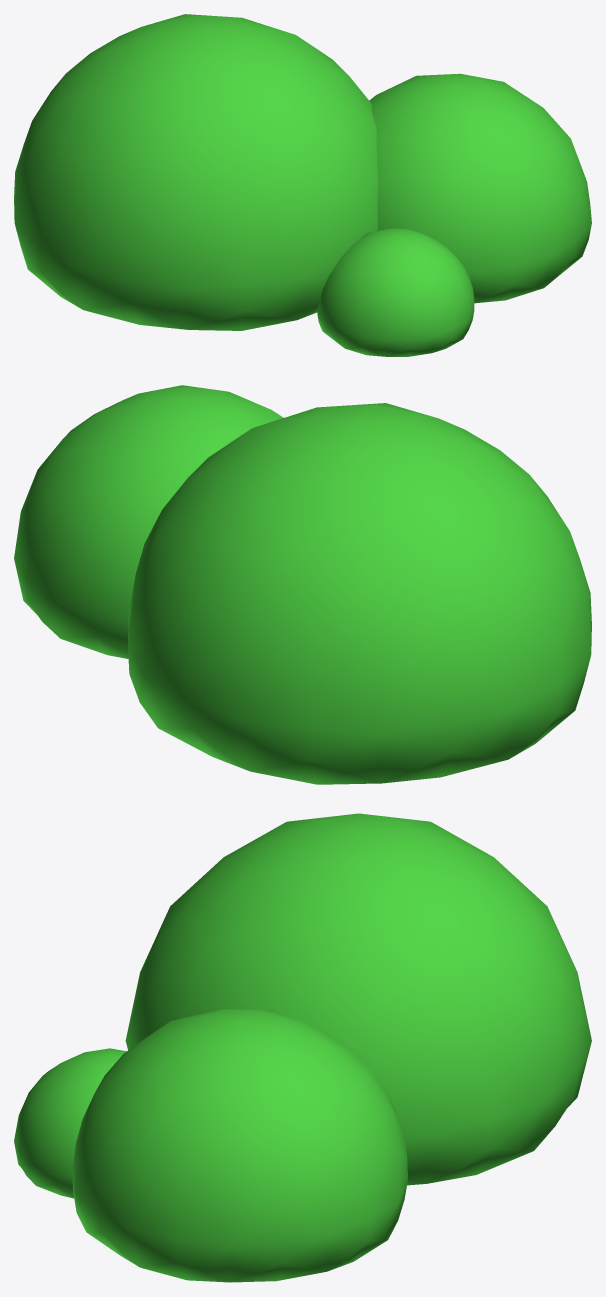
Rendered from buisson.fbx.
3 renders of one model, top to bottom at view 1: azimuth 30°, elevation 25°; view 2: azimuth 150°, elevation 25°; view 3: azimuth 270°, elevation 25°, orthographic. The views are drawn at different scales.
Parts seen in each view (by area): view 1: Icosphere; view 2: Icosphere; view 3: Icosphere.
Part boxes in pixels (x1,y1,x2,y2): Icosphere: (14, 14, 591, 356); Icosphere: (14, 385, 591, 784); Icosphere: (14, 813, 591, 1282).
Size of the model in its own units: 272 by 133 by 236.
